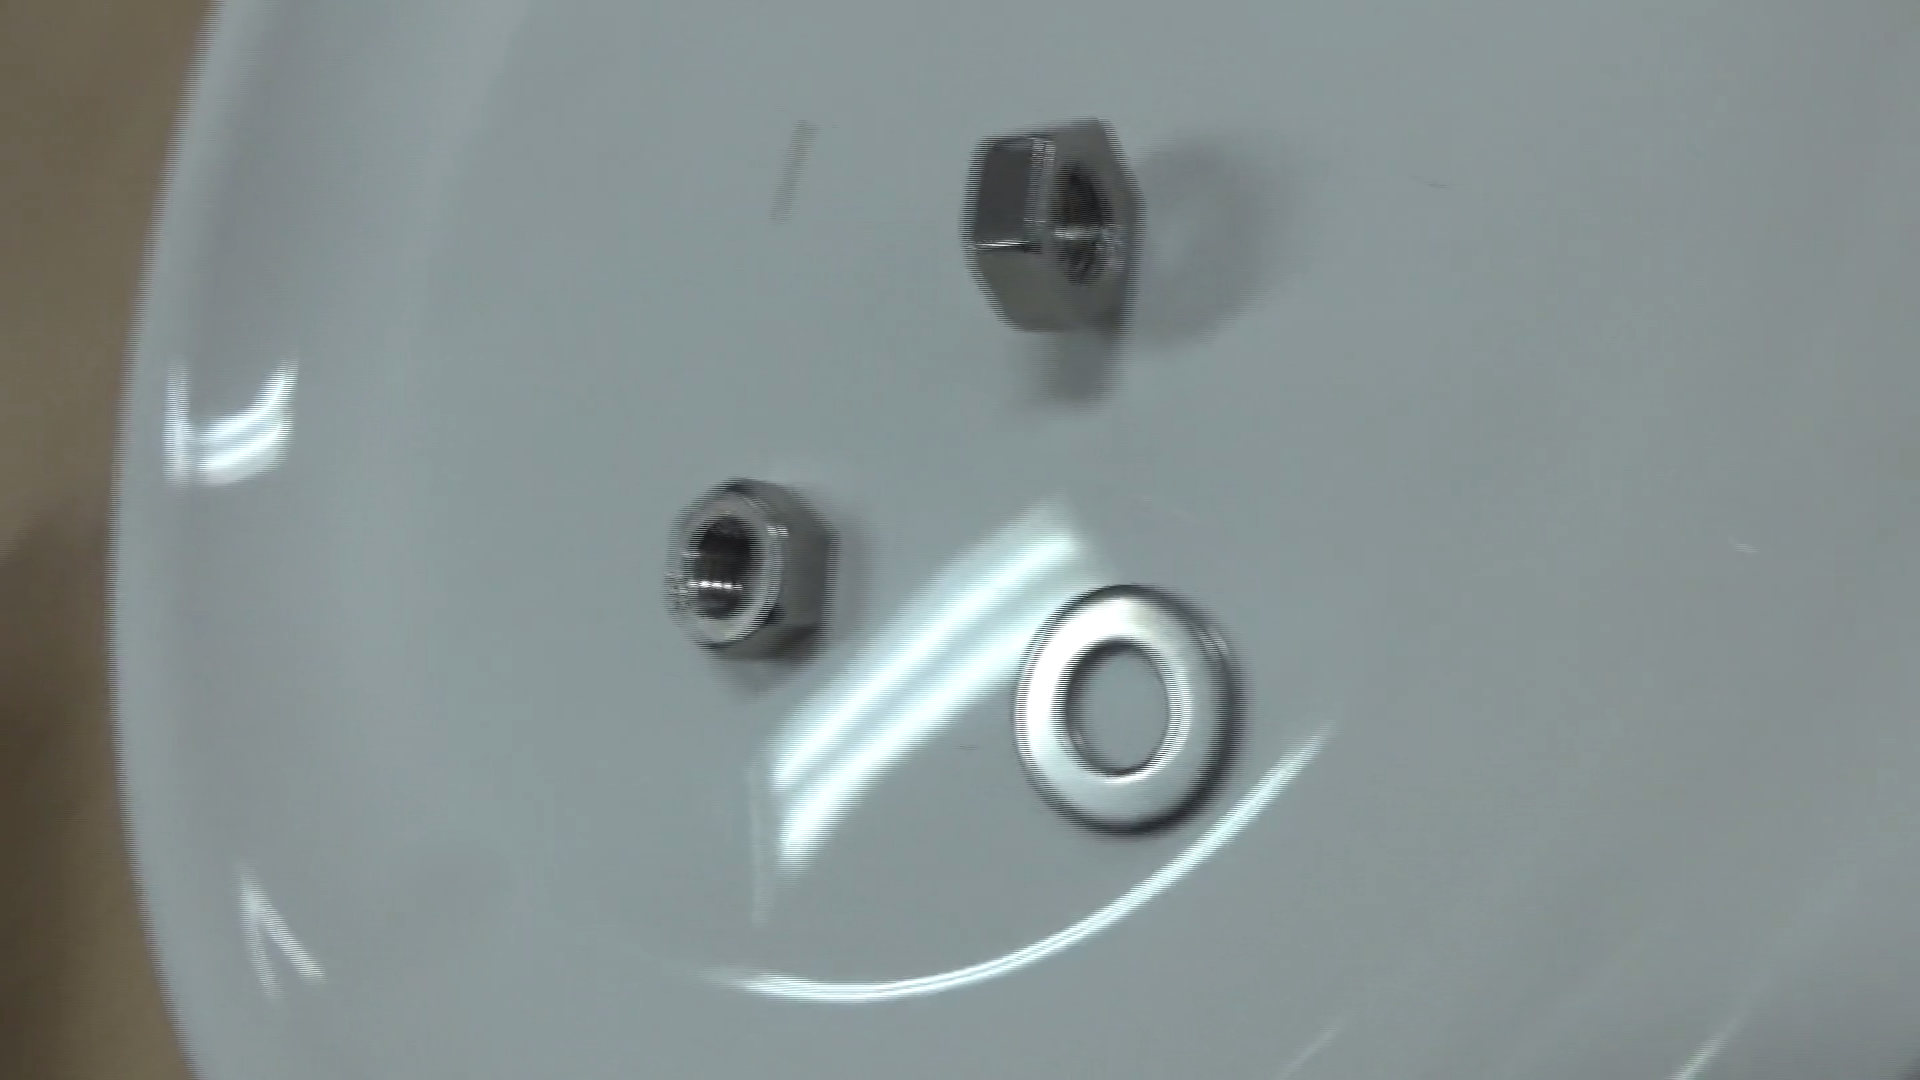nut: (930, 95, 1191, 356), (642, 450, 852, 678)
washer: (989, 560, 1259, 844)
